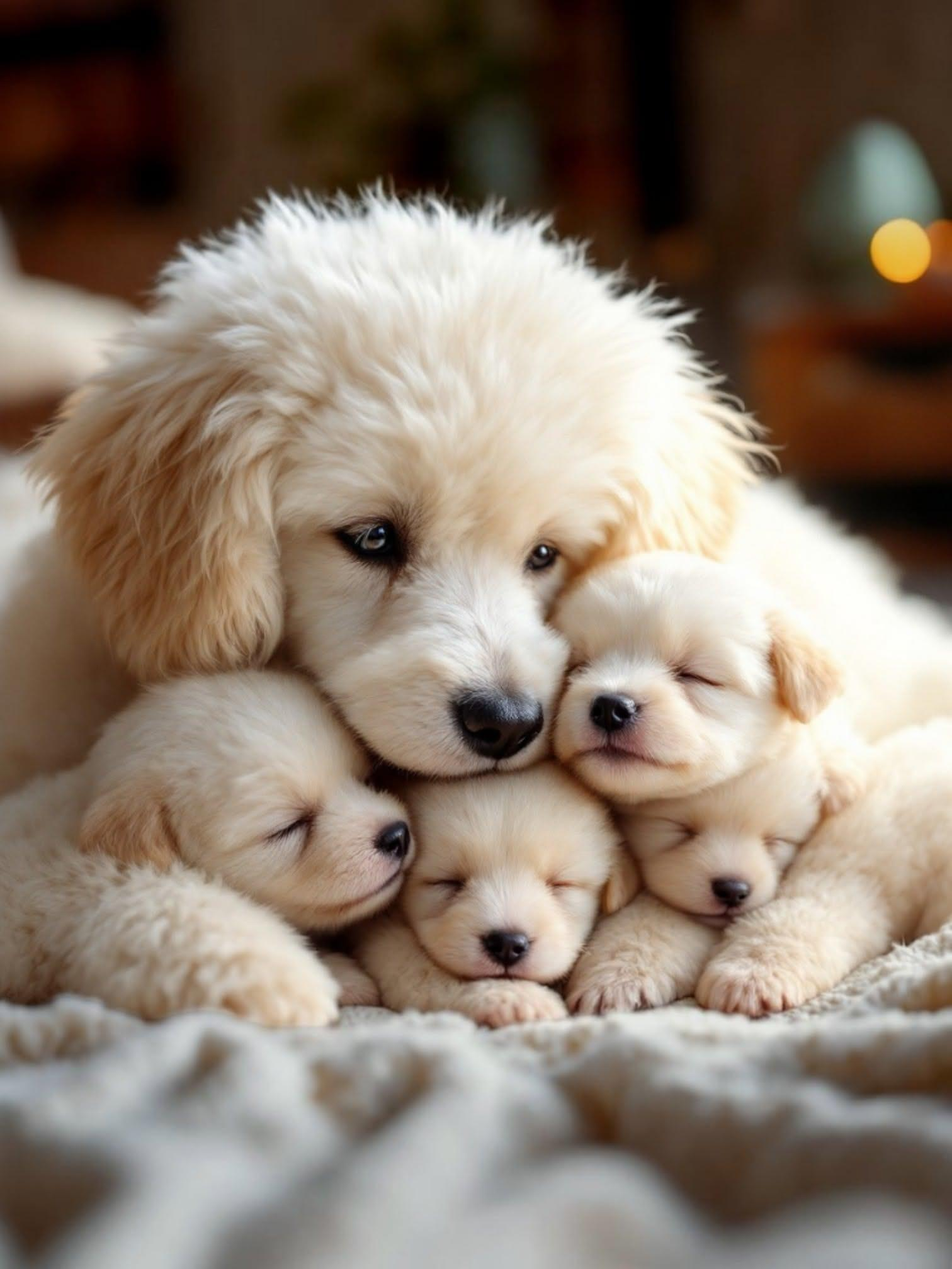adult_dog: (0, 177, 952, 801)
puppy-dog: (0, 662, 419, 1030), (565, 745, 952, 1020), (549, 548, 856, 837), (351, 762, 646, 1029)
